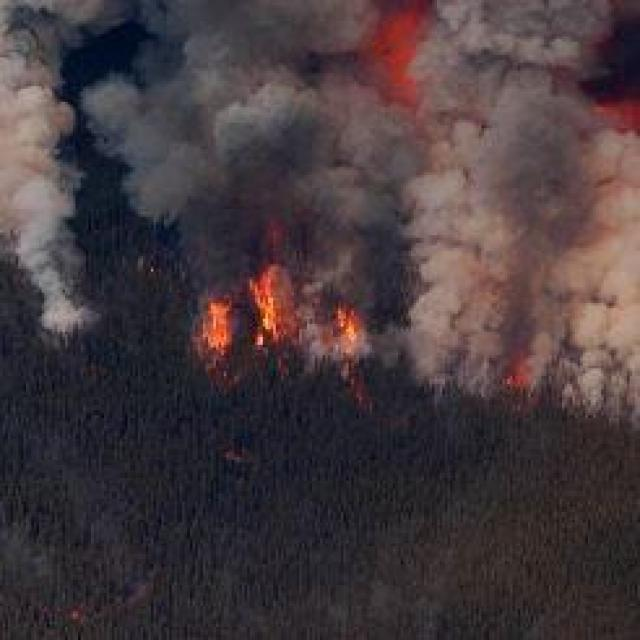Fire: (249, 263, 295, 342), (503, 321, 540, 409), (329, 305, 374, 370), (194, 284, 241, 345)
Smoke: (0, 0, 317, 222), (537, 107, 637, 419)
